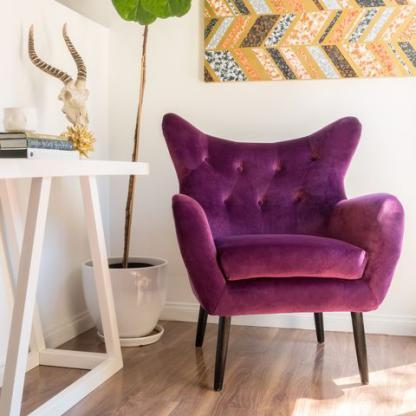chair: (157, 98, 408, 401)
table: (0, 148, 154, 416)
